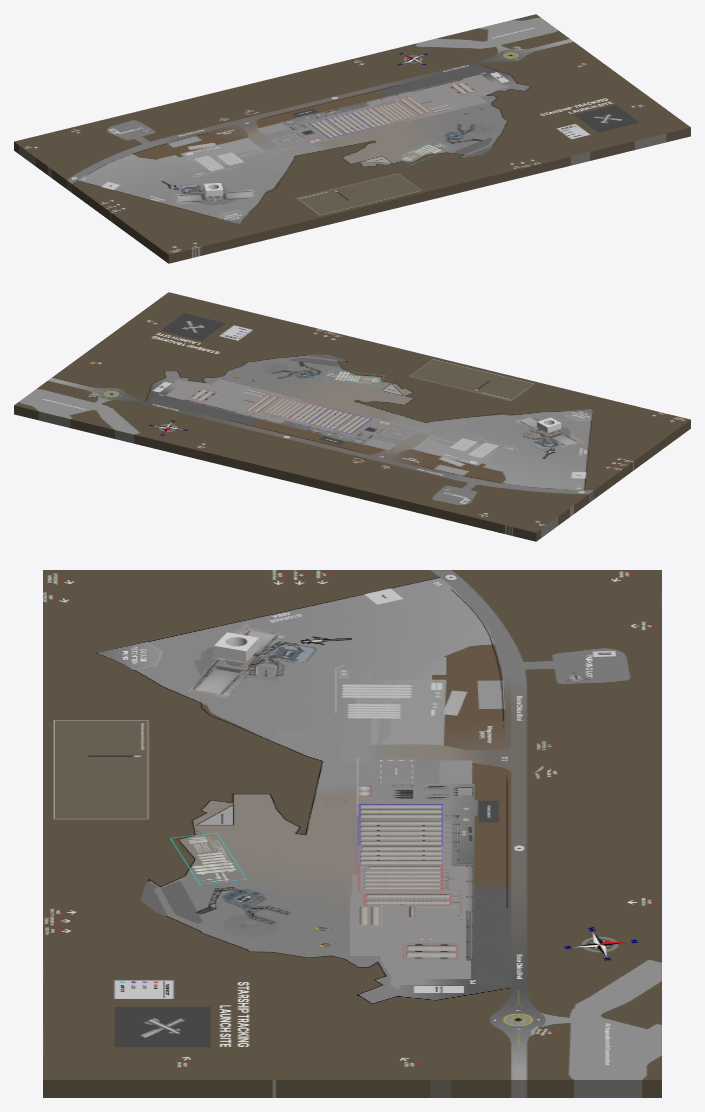
The model's file is SBLaunchSite.gltf.
3 renders of one model, top to bottom at view 1: azimuth 30°, elevation 25°; view 2: azimuth 150°, elevation 25°; view 3: azimuth 270°, elevation 25°, orthographic. The views are drawn at different scales.
Visible parts, largest first — view 1: Ground; view 2: Ground; view 3: Ground, Cube.
Boxes of the visible parts, bbox=[...] form: Ground: bbox=[14, 14, 690, 263]; Ground: bbox=[14, 292, 690, 541]; Ground: bbox=[43, 570, 661, 1097]; Cube: bbox=[214, 632, 259, 662].
Size of the model in its own units: 650 by 22.23 by 333.
1 material, 1 textured.
